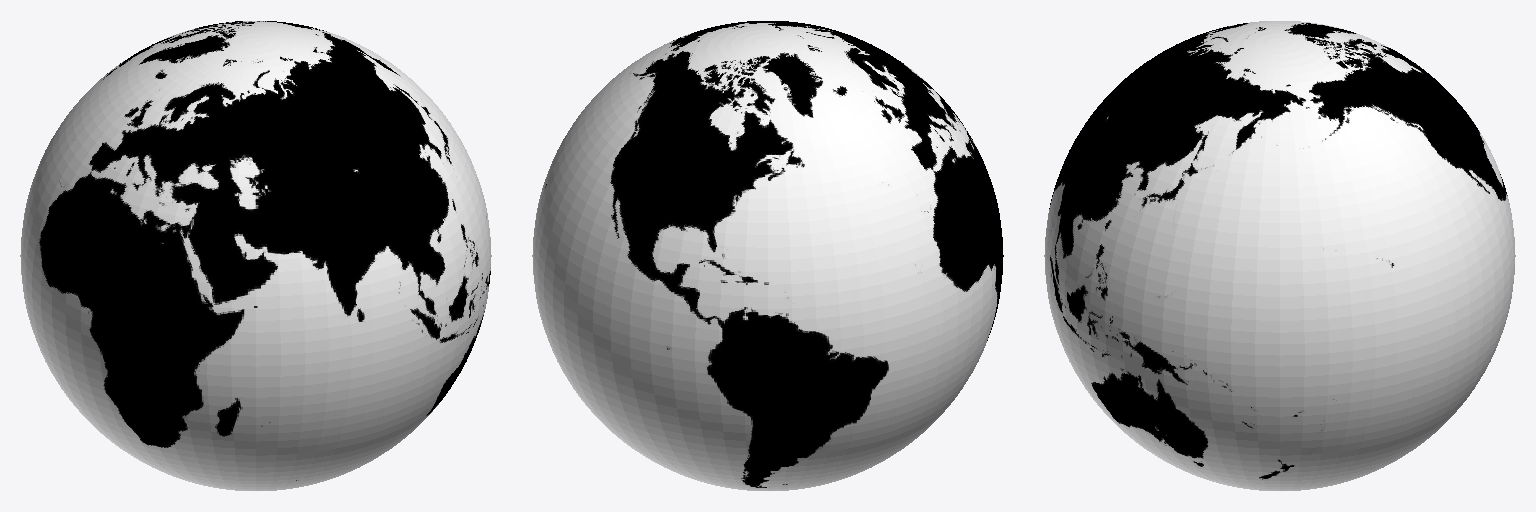
The picture shows the model from 3 angles: view 1: azimuth 30°, elevation 25°; view 2: azimuth 150°, elevation 25°; view 3: azimuth 270°, elevation 25°; orthographic projection.
Visible parts, largest first — view 1: pSphere1; view 2: pSphere1; view 3: pSphere1.
Part boxes in pixels (bbox=[...]): pSphere1: bbox=[20, 21, 491, 490]; pSphere1: bbox=[532, 21, 1003, 490]; pSphere1: bbox=[1044, 21, 1515, 490].
Size of the model in its own units: 2 by 2 by 2.
Materials: 1 (1 with a texture image).